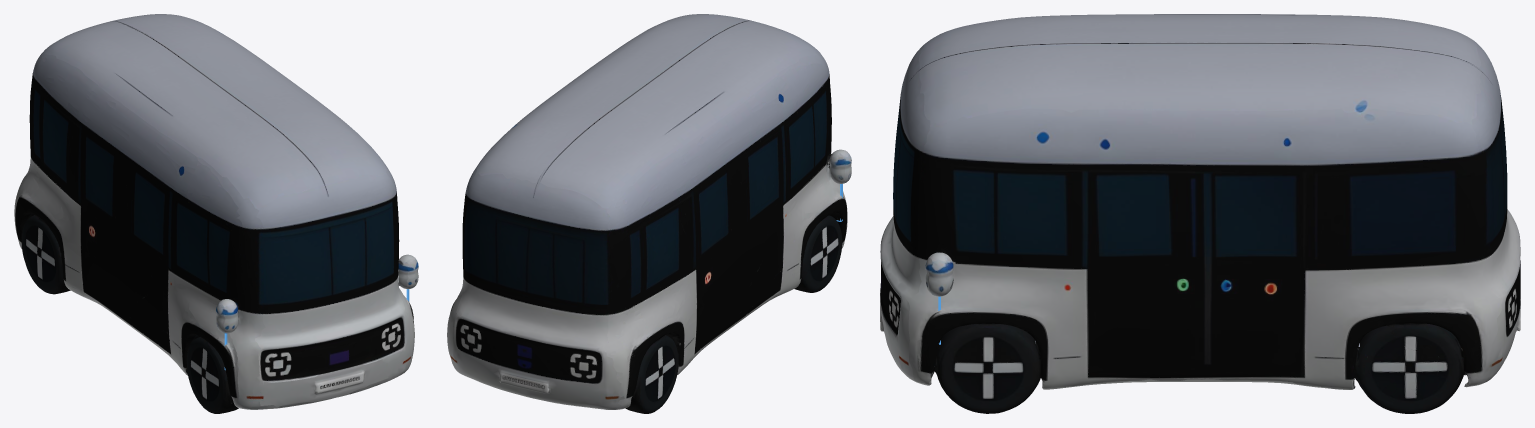
File: roii_reconfig_recon.glb
The picture shows the model from 3 angles, left to right: view 1: azimuth 30°, elevation 25°; view 2: azimuth 150°, elevation 25°; view 3: azimuth 270°, elevation 25°; orthographic projection. The views are drawn at different scales.
Parts seen in each view (by area): view 1: textured_meshobj; view 2: textured_meshobj; view 3: textured_meshobj.
Boxes of the visible parts, left/top/right/bottom form: textured_meshobj: left=14, top=14, right=418, bottom=413; textured_meshobj: left=447, top=14, right=851, bottom=413; textured_meshobj: left=880, top=14, right=1520, bottom=413.
Size of the model in its own units: 18.42 by 21.74 by 40.
27 materials, 4 textured.
